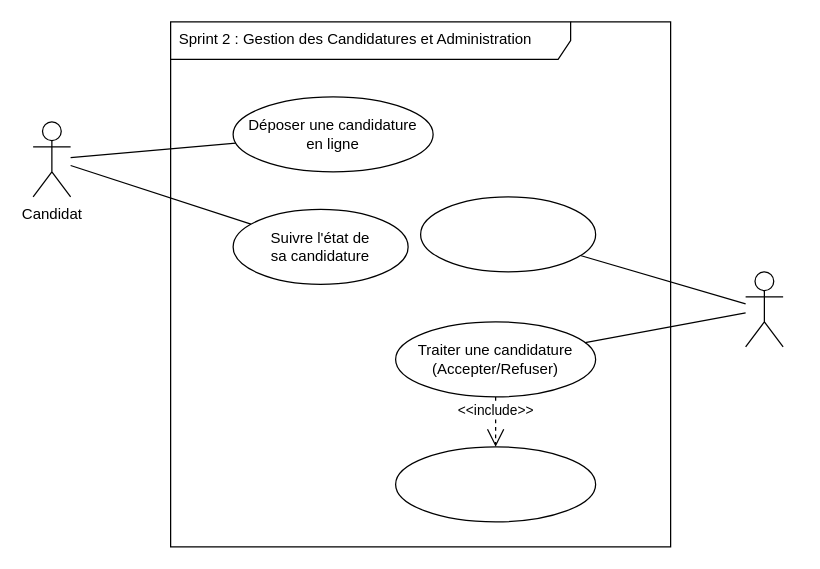
The diagram is 820 pixels wide and 569 high, and some of its shapes have lost their labels. Here are the shapes that lost their labels. From the top down, the box of each, then its label:
(419, 196, 596, 272): Consulter la liste des candidatures
(744, 271, 783, 347): Admin RH
(394, 446, 596, 522): Générer automatiquement le compte Stagiaire
